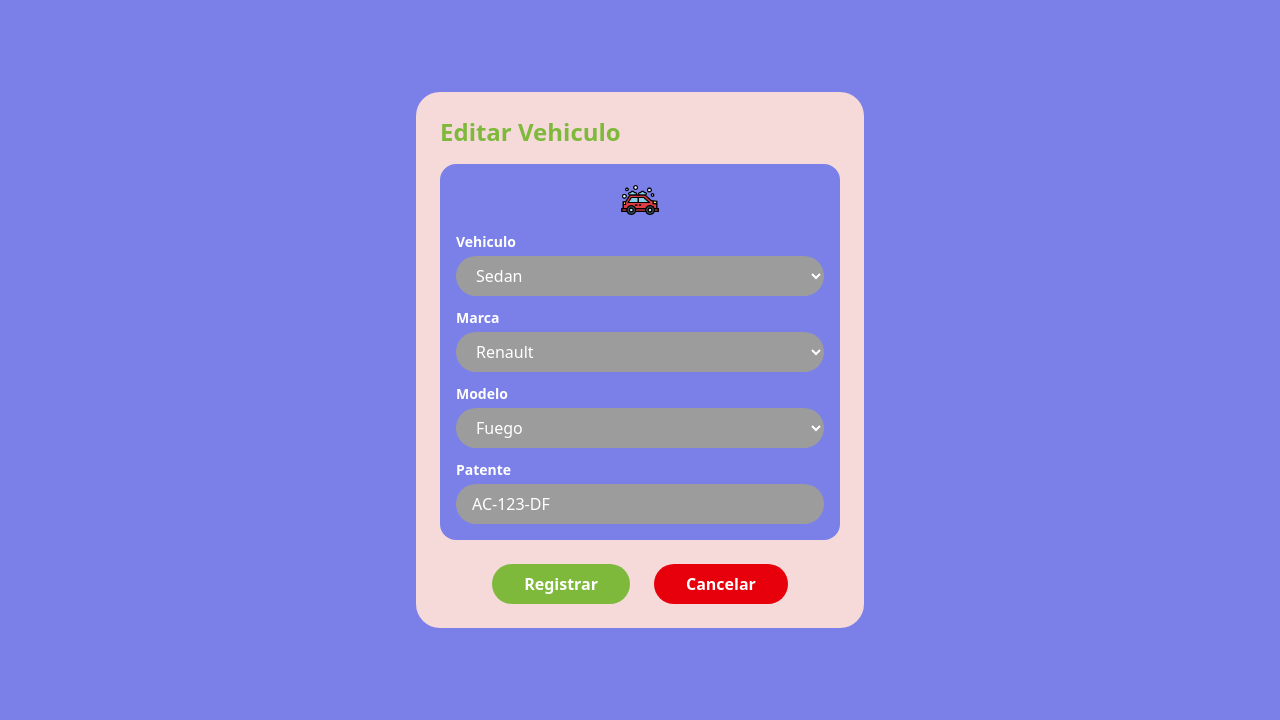
Test case: EditarVehiculoPage › con patente de otro vehículo muestra el popup y restablece los datos
Expected: the heading "Editar Vehiculo" is shown, [440,115,621,148]
Replace the text in the field labelled "Patente" with "ab123cd" at (640, 504), box [456,484,824,524]
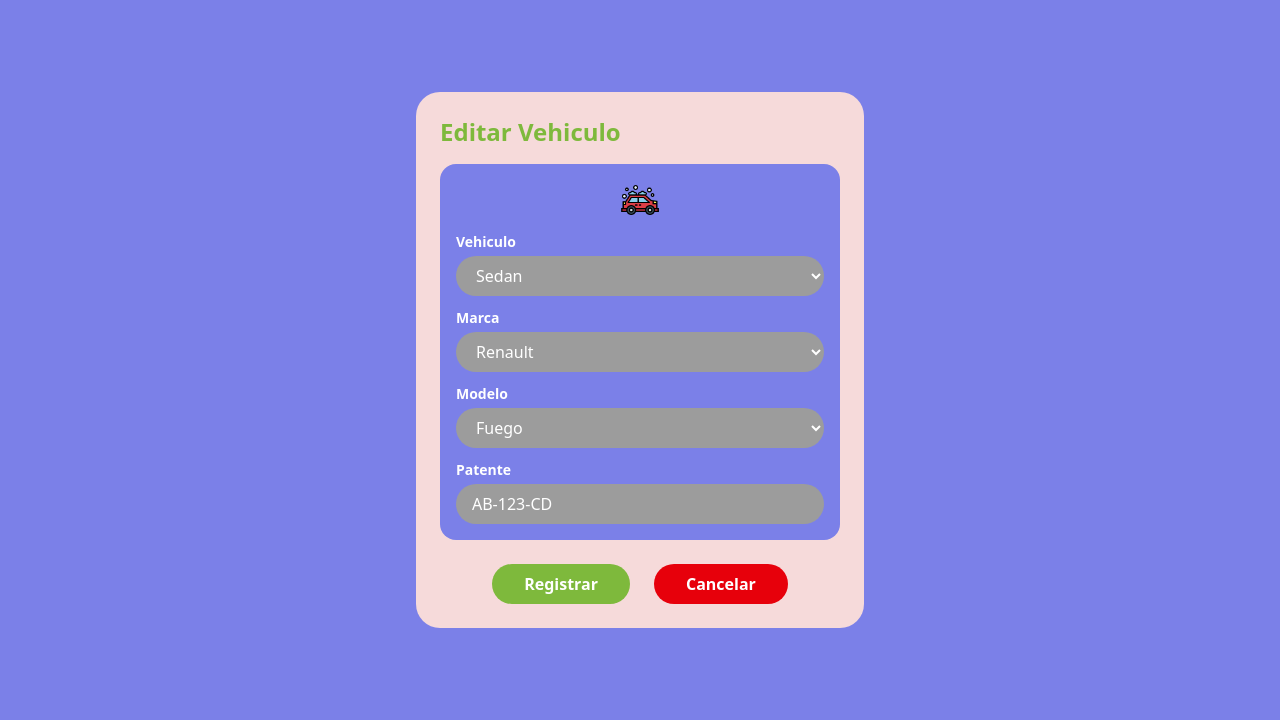
Click the button "Registrar" at (561, 584), box [492,564,630,604]
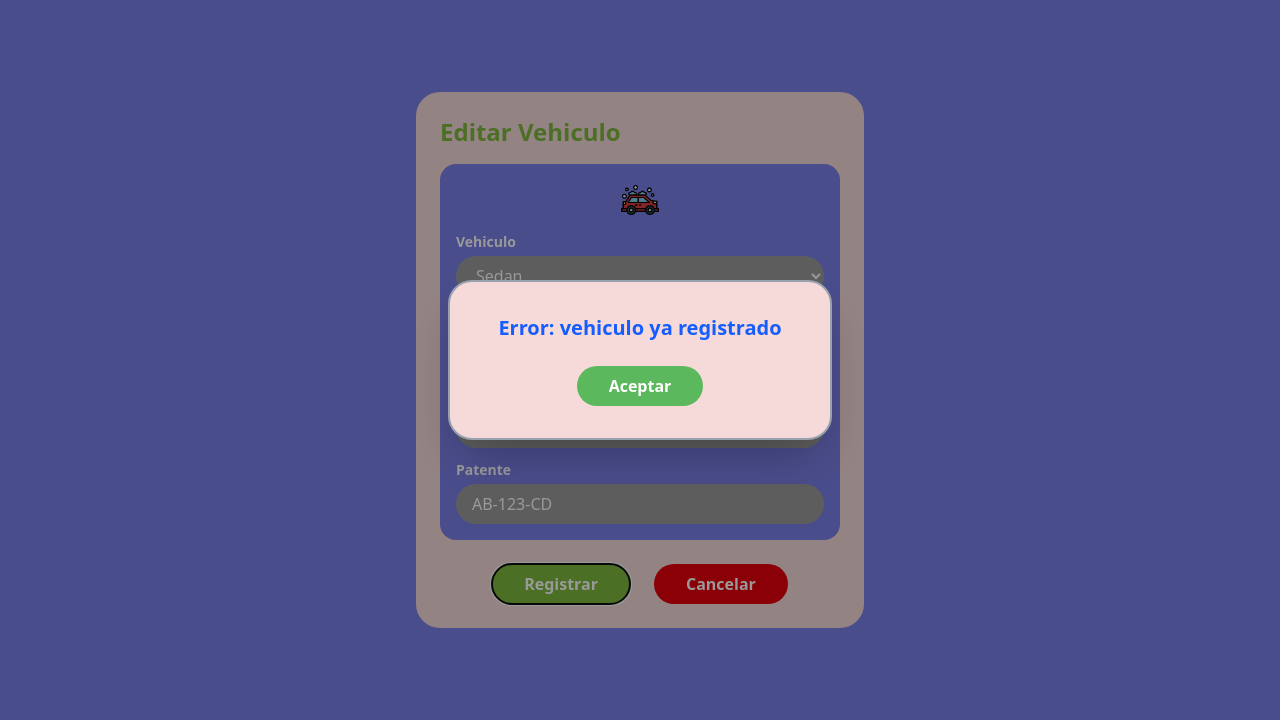
Result: the text "Error: vehiculo ya registrado" is shown at [482,314,798,342]
Click the button "Aceptar" at (640, 386), box [577,366,703,406]
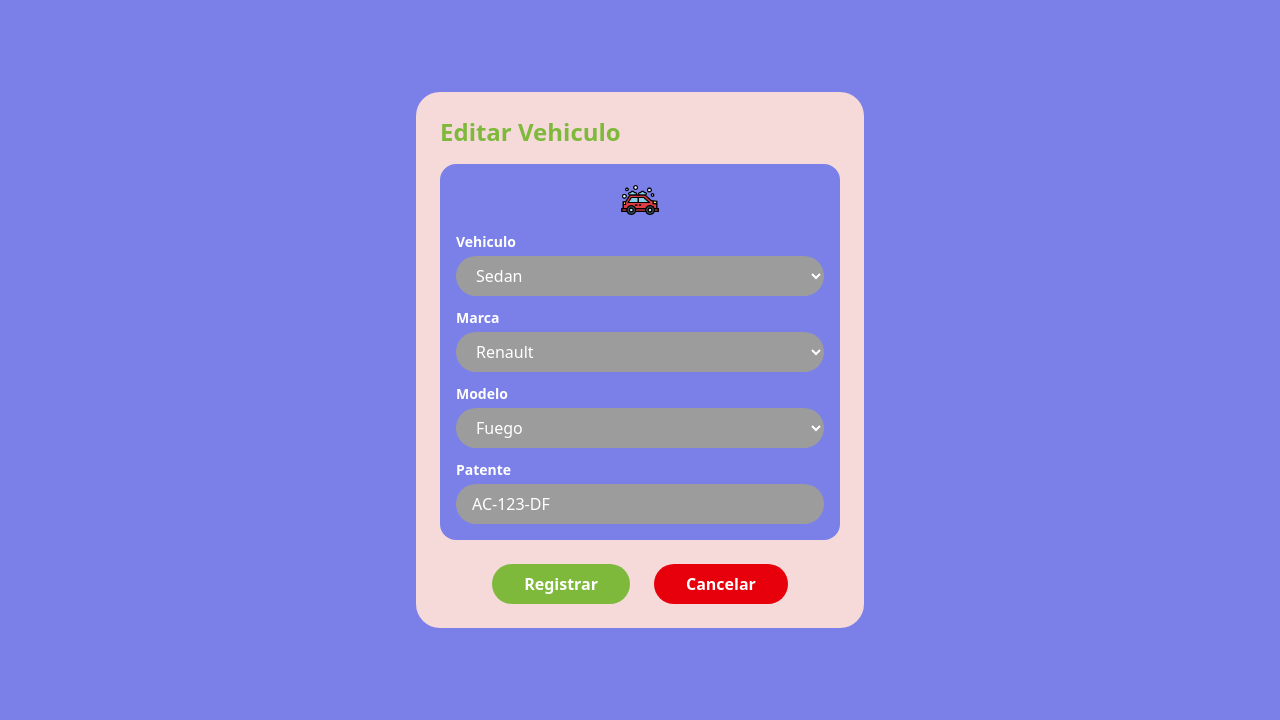
Result: the field labelled "Patente" holds "AC-123-DF" at [456,484,824,524]
